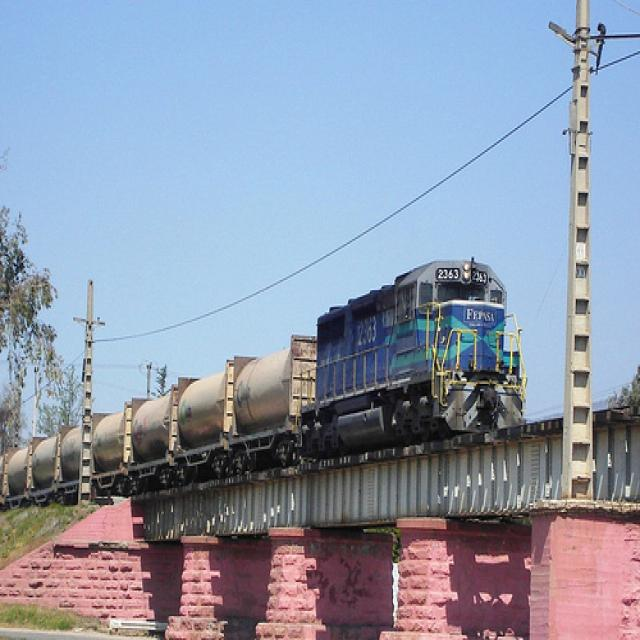locomotive: (297, 250, 528, 474)
tank: (229, 327, 318, 481), (170, 353, 237, 497), (127, 380, 178, 497), (87, 398, 132, 505)
